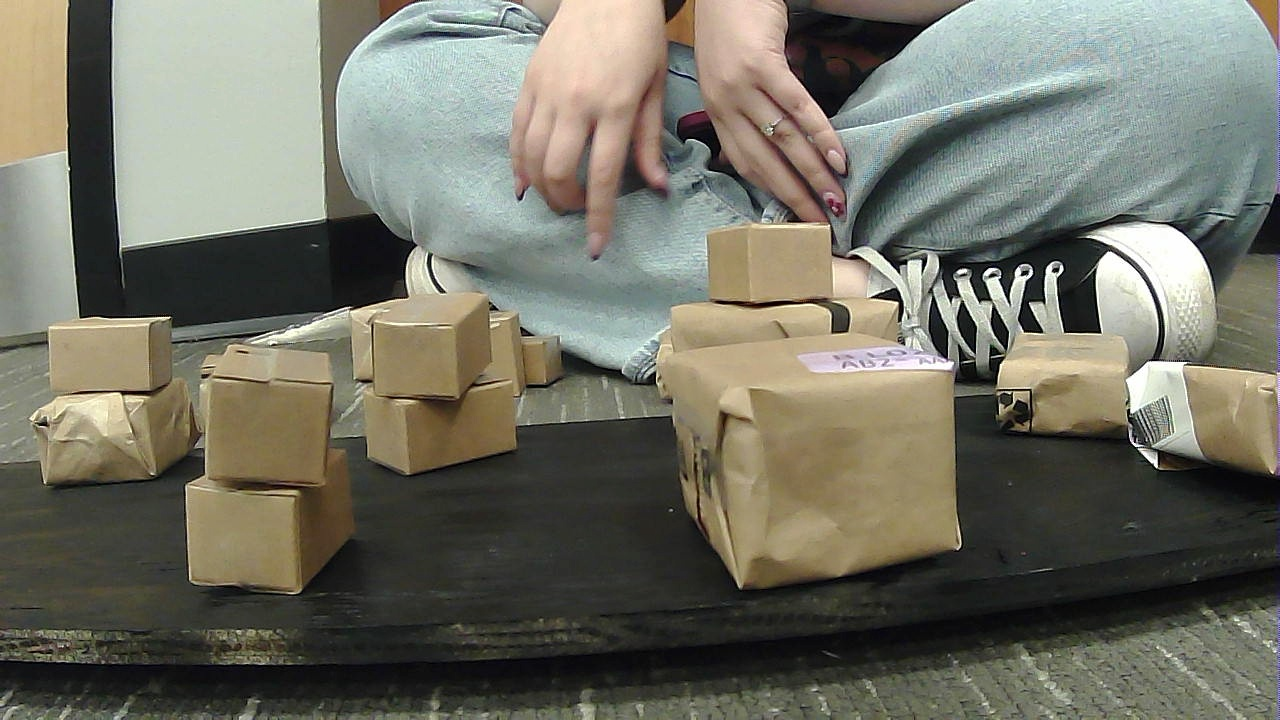package: (666, 357, 963, 570), (185, 473, 356, 593), (203, 350, 334, 495), (1136, 359, 1269, 486), (357, 382, 520, 476), (40, 388, 183, 492), (373, 289, 490, 400), (1005, 325, 1124, 433), (660, 292, 905, 344), (44, 320, 171, 392), (709, 229, 834, 299)
stacked: (193, 345, 350, 591), (356, 292, 519, 477), (669, 230, 909, 342), (42, 314, 188, 481)
